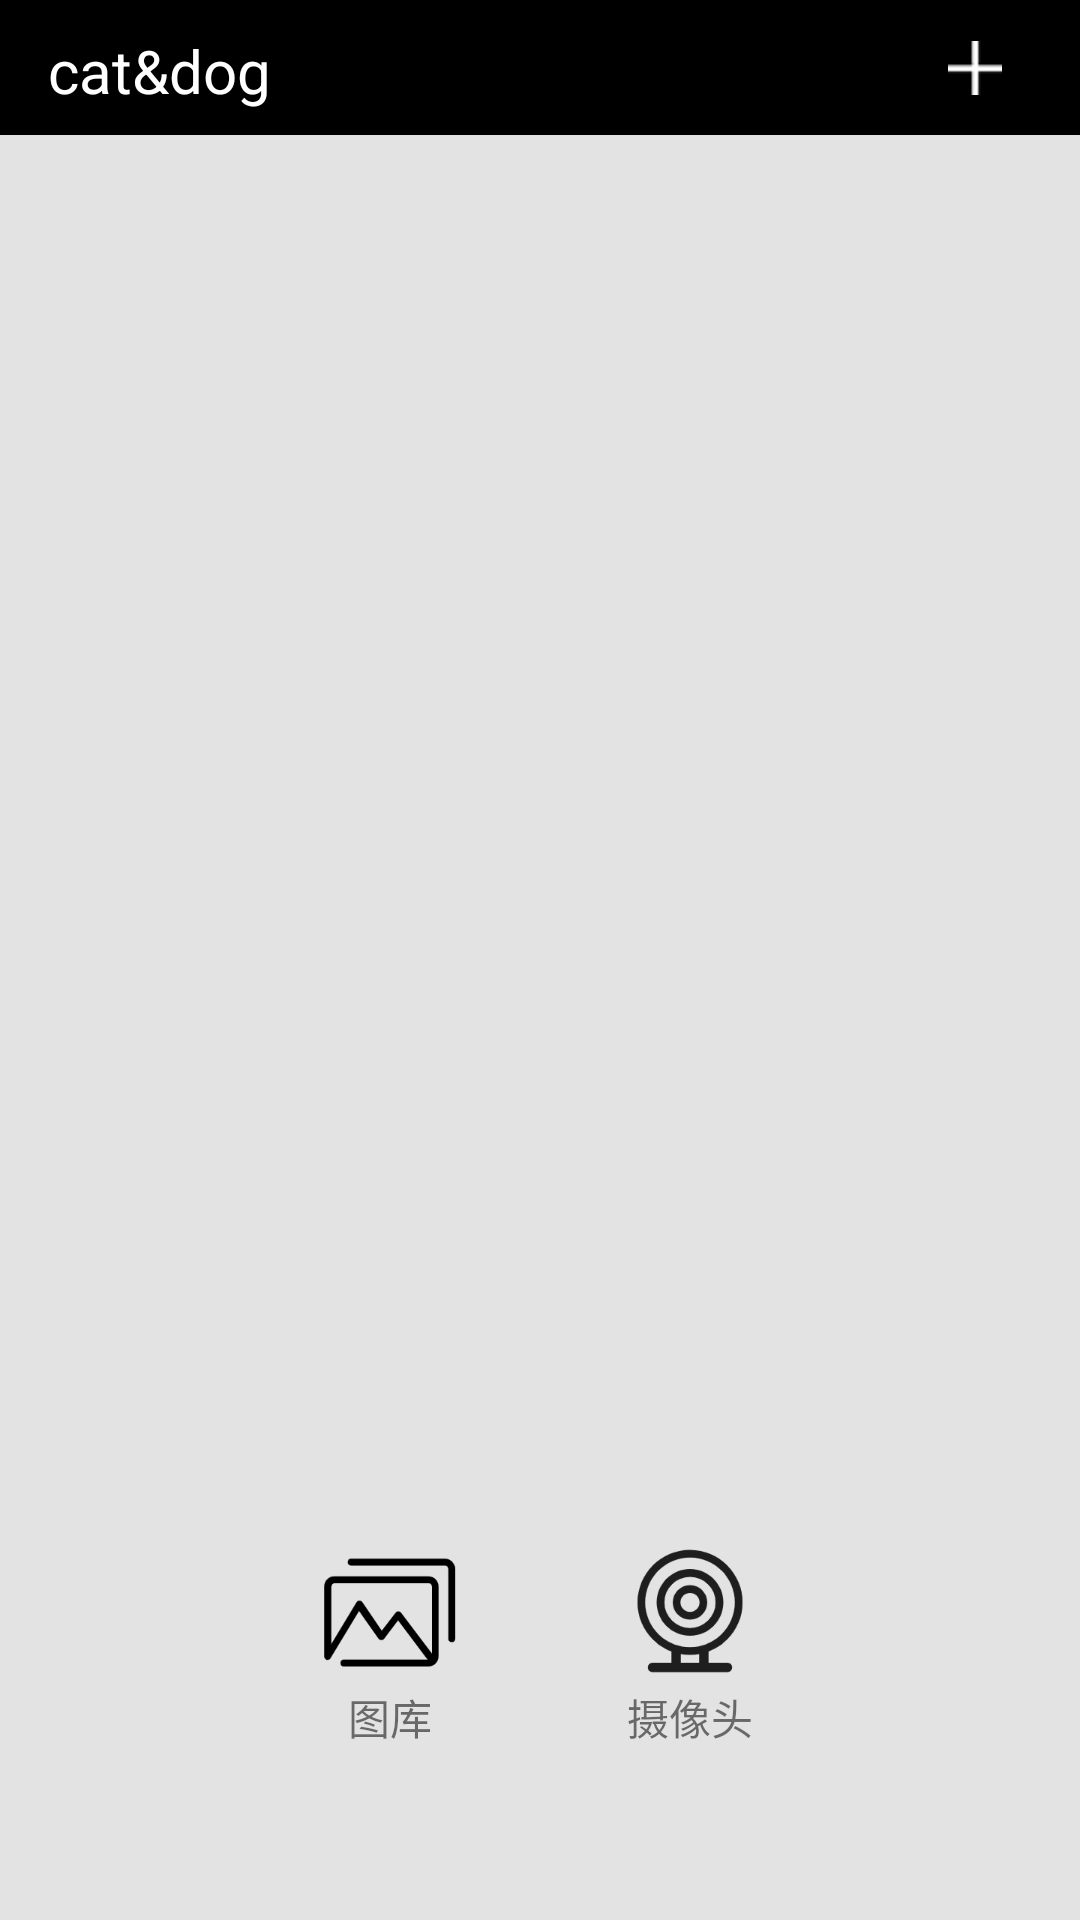

Screen size 1080 × 1920. Icon name, then its center in pixels as point (x, y):
add: point (975, 68)
